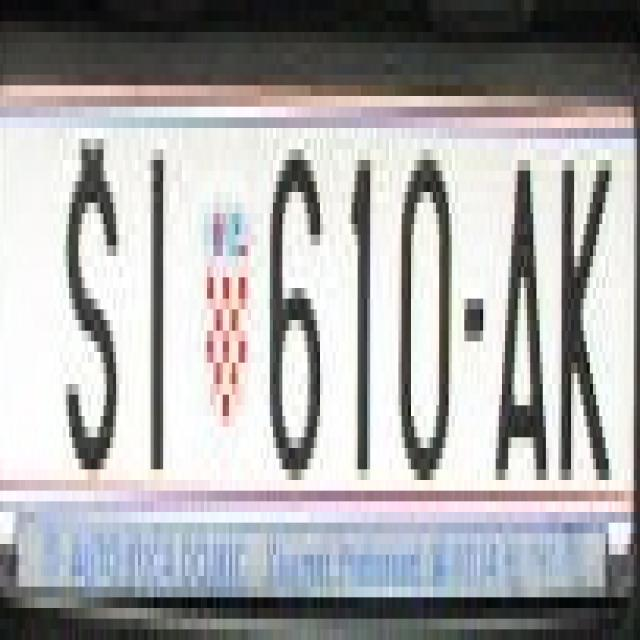0: (395, 149, 452, 480)
1: (342, 138, 373, 490)
6: (261, 128, 323, 469)
A: (493, 128, 549, 469)
K: (555, 138, 618, 490)
S: (66, 117, 116, 480)
